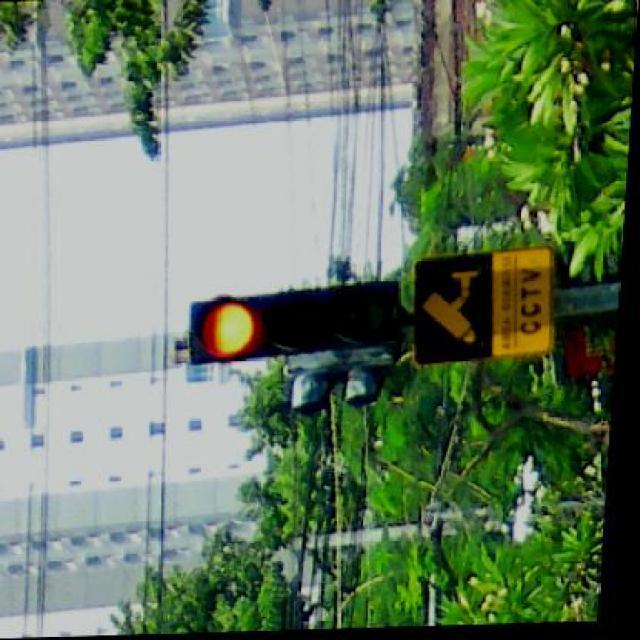traffic light: (189, 281, 402, 366), (414, 245, 556, 366)
